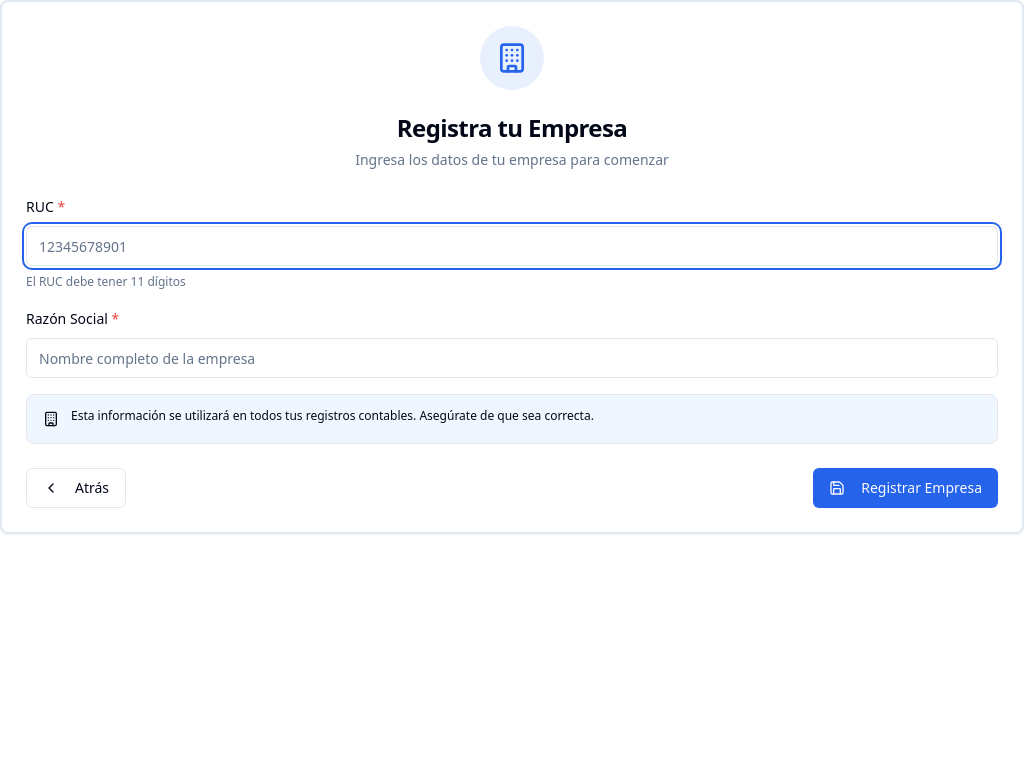
Test: CompanyRegistrationStep › valida RUC no numérico
Type "abc" into the field with placeholder "12345678901" at (512, 246), box [26,226,998,266]
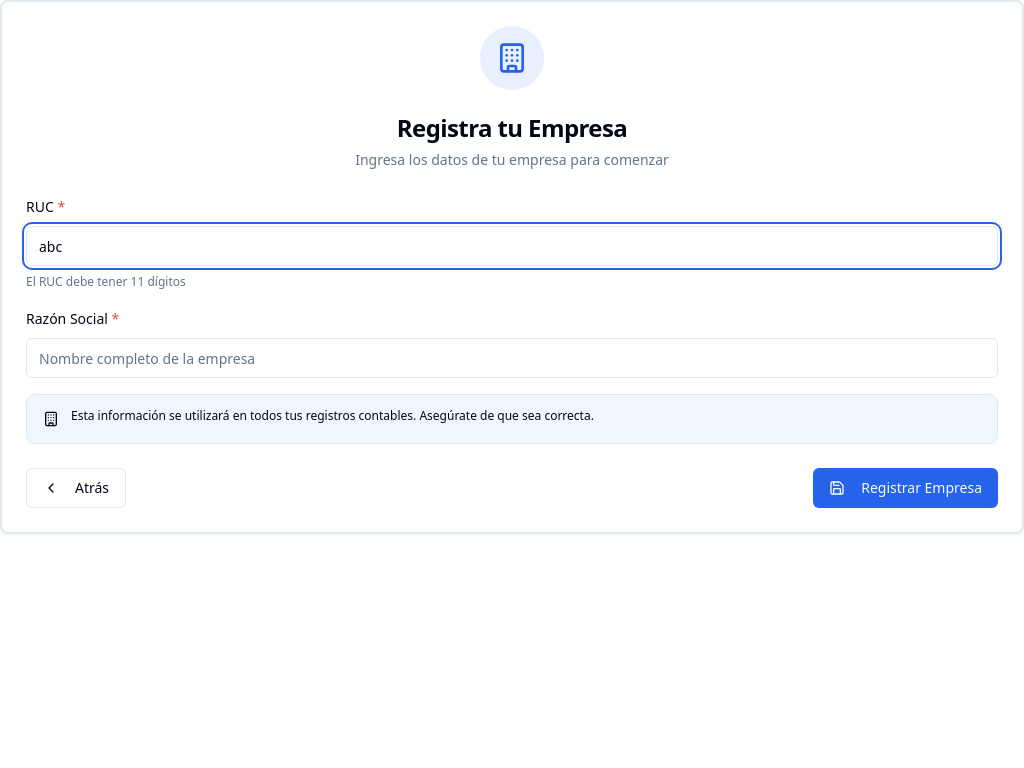
Type "X" into the field with placeholder "Nombre completo de la empresa" at (512, 358), box [26,338,998,378]
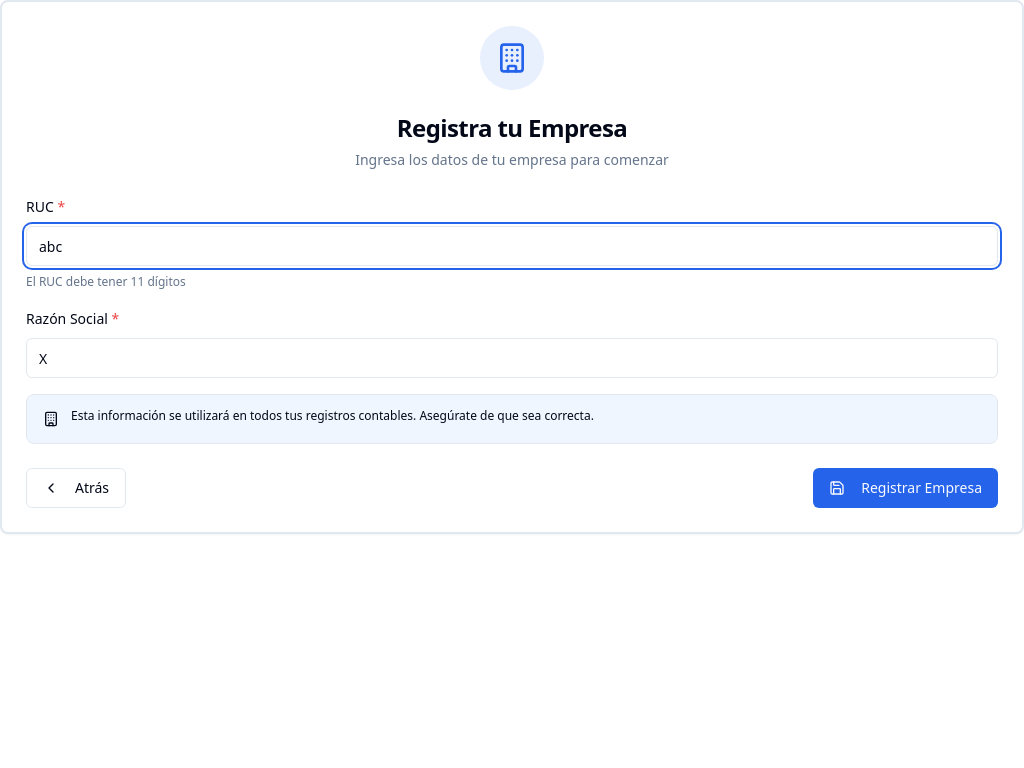
Click the button "Registrar Empresa" at (906, 488), box [813,468,998,508]
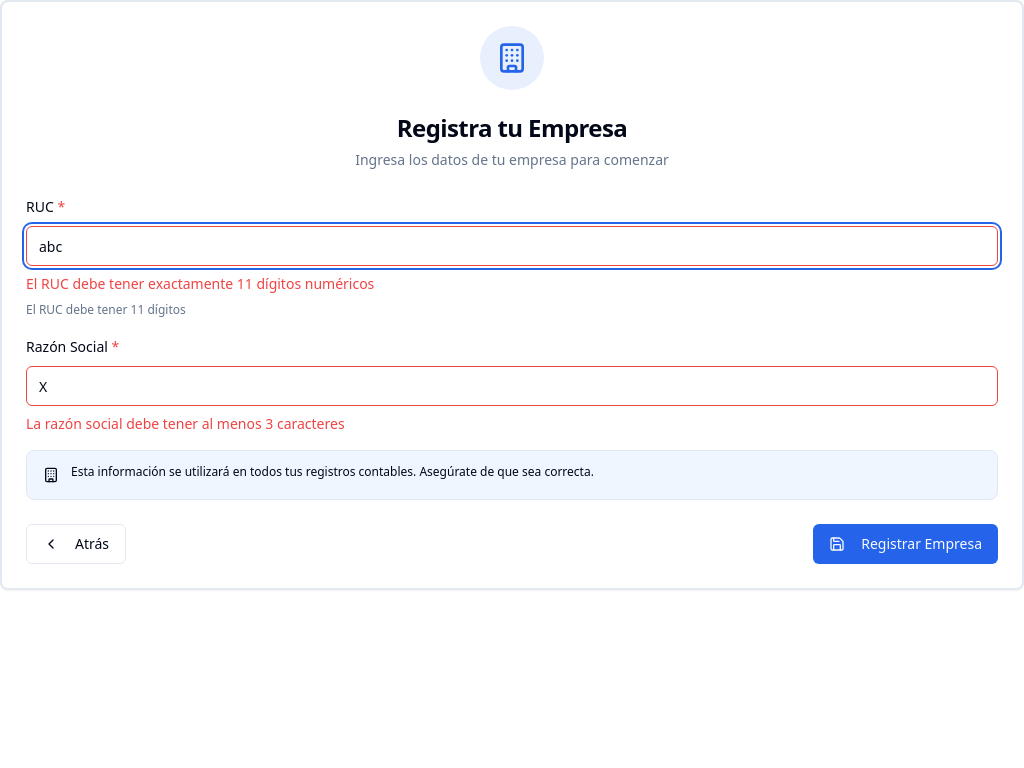
Expected: the text "El RUC debe tener exactamente 11 dígitos numéricos" is shown, [26,274,374,293]
